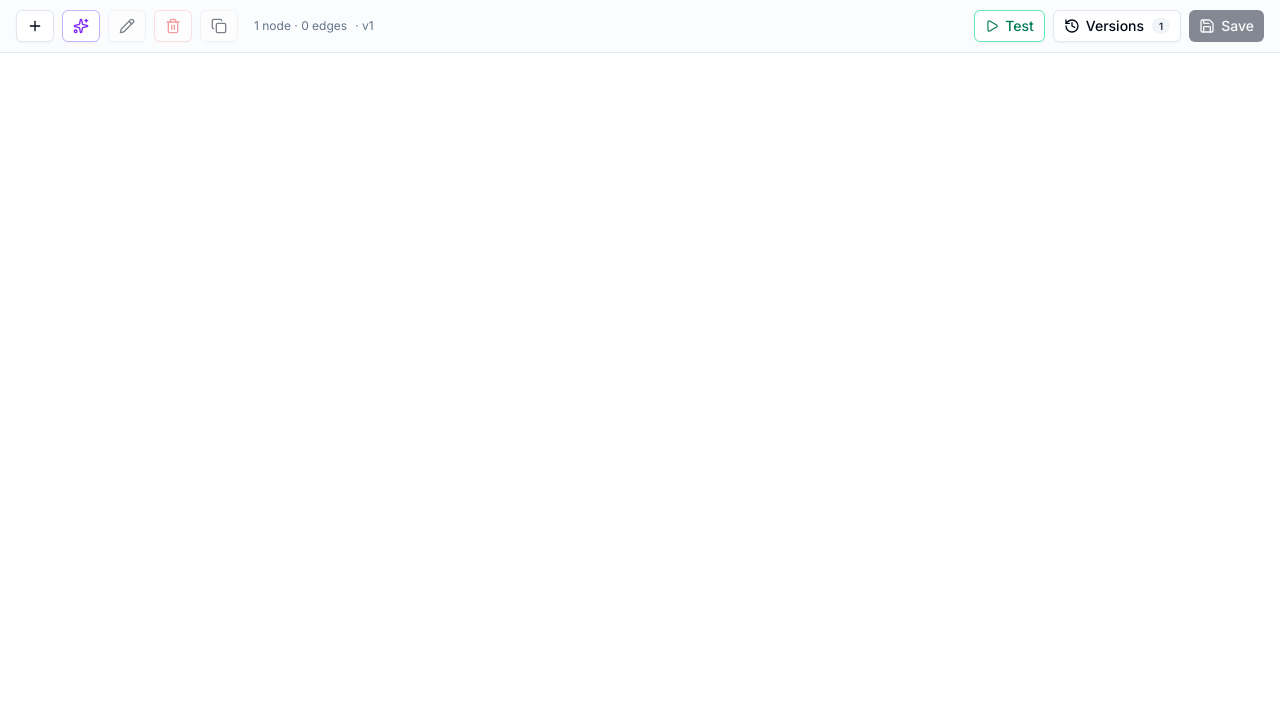
Scenario: EditorToolbar › Version History › should open version sheet on click
Step 1. Click the button "Versions 1" → (1117, 26), box top-left (1053, 10), bottom-right (1181, 42)
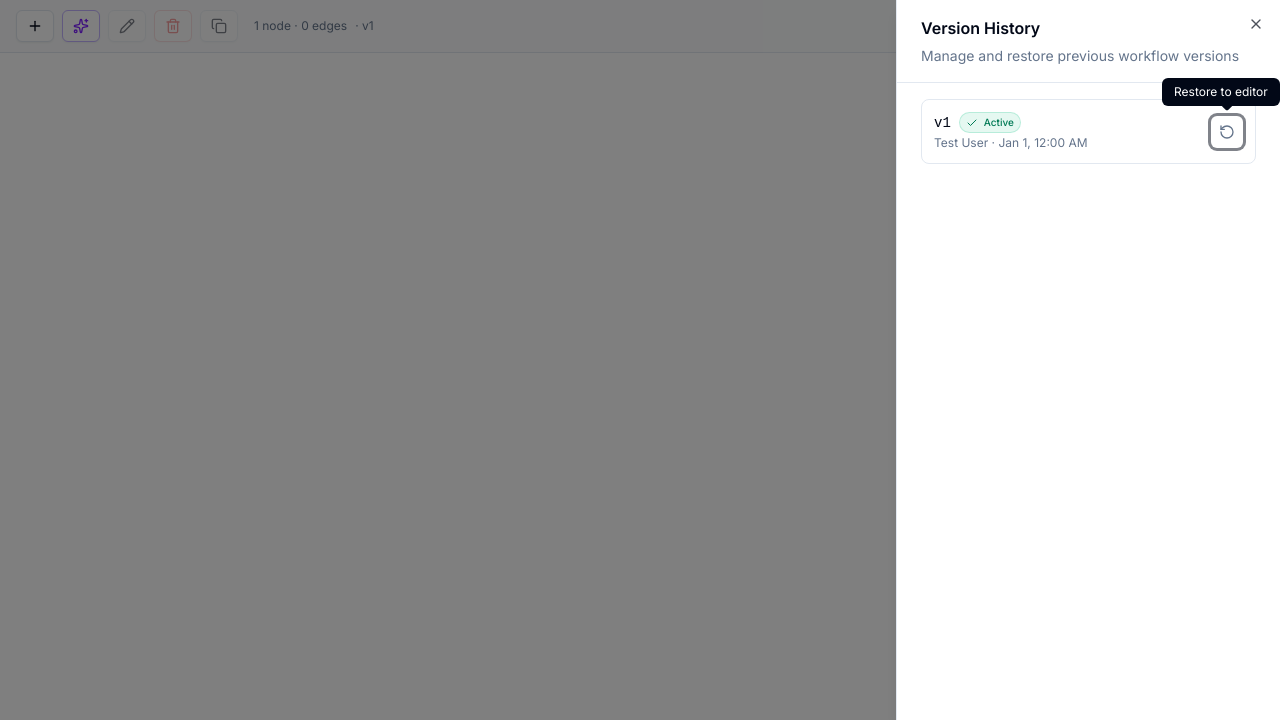
Expected: the heading "Version History" is shown, top-left (921, 18), bottom-right (1040, 38)
